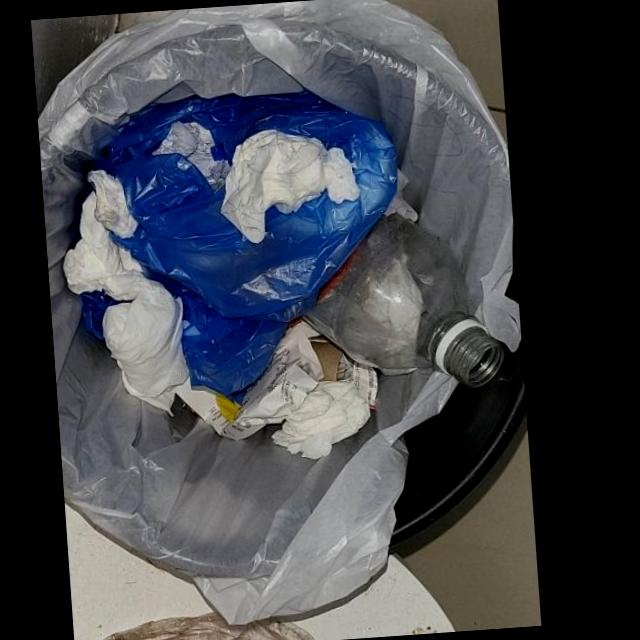chai_nhua_pet: (302, 210, 505, 387)
giay: (61, 168, 188, 413), (193, 315, 324, 439), (220, 128, 358, 240), (271, 381, 369, 459)
tui_ni_long: (61, 89, 398, 412)
